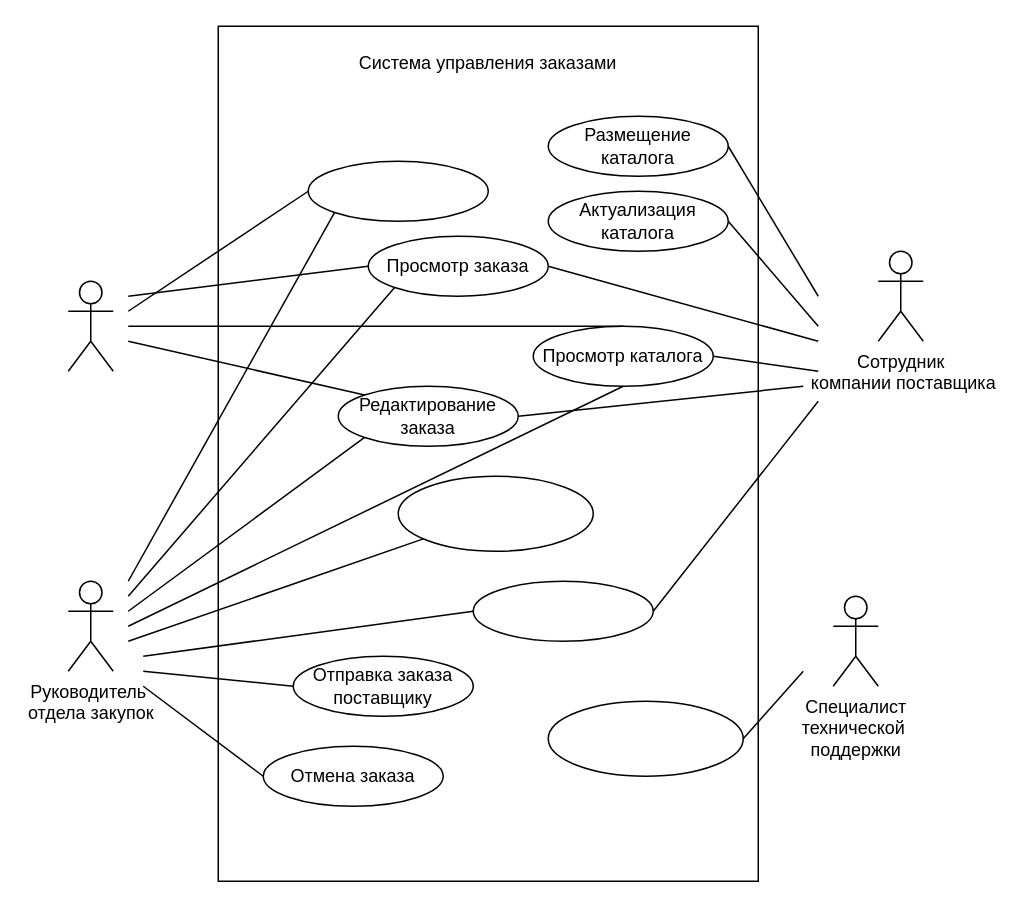
This 1022x908 diagram has some shape labels left out. The box of each missing label's shape, as (x1, y1, x2, y2) in pixels:
Помощь с текущими вопросами: (547, 700, 743, 776)
Согласование заказ: (472, 580, 653, 641)
Создание заказа: (307, 160, 488, 221)
Создание ЛК производителя/поставщика: (397, 475, 593, 551)
Сотрудник отдела закупок: (67, 280, 113, 371)
